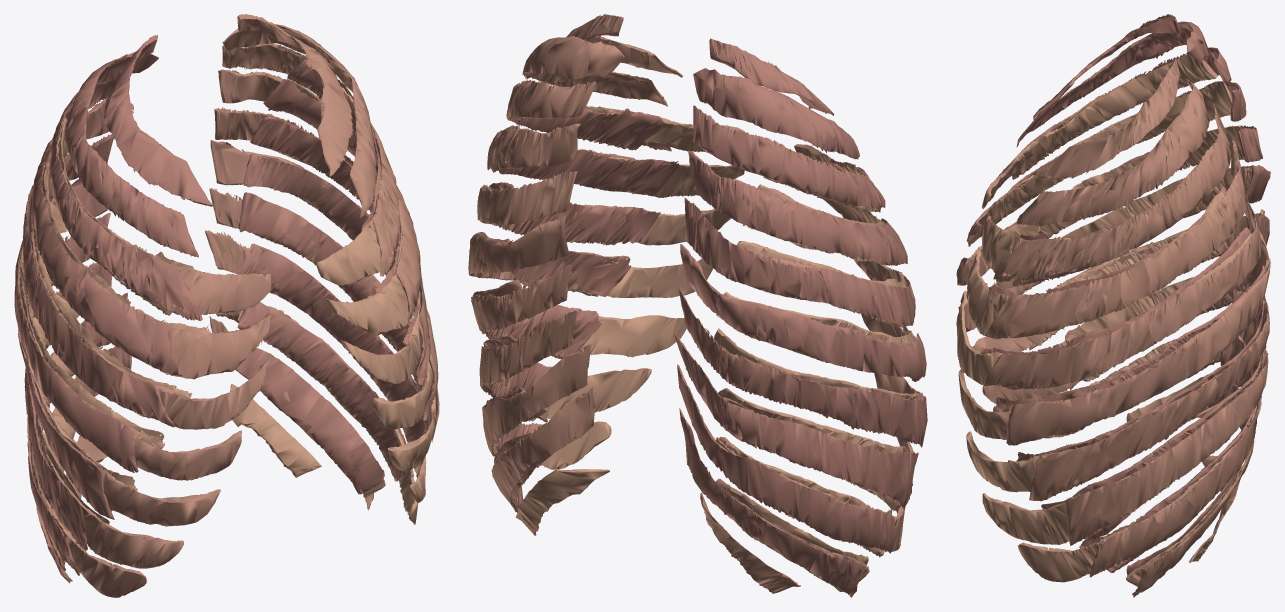
The model's file is intercostal-muscles.glb.
The picture shows the model from 3 angles, left to right: view 1: azimuth 30°, elevation 25°; view 2: azimuth 150°, elevation 25°; view 3: azimuth 270°, elevation 25°; orthographic projection. The views are drawn at different scales.
Parts seen in each view (by area): view 1: FJ1451 external intercostal muscle, FJ1454M Innermost intercostal muscle, FJ1455 internal intercostal muscle, FJ1451M External intercostal muscle, FJ1455M Internal intercostal muscle, FJ1454 innermost intercostal muscle; view 2: FJ1451 external intercostal muscle, FJ1451M External intercostal muscle, FJ1454M Innermost intercostal muscle, FJ1455M Internal intercostal muscle, FJ1454 innermost intercostal muscle, FJ1455 internal intercostal muscle; view 3: FJ1451M External intercostal muscle, FJ1454 innermost intercostal muscle, FJ1455M Internal intercostal muscle, FJ1454M Innermost intercostal muscle, FJ1451 external intercostal muscle, FJ1455 internal intercostal muscle.
Boxes of the visible parts, x1,y1,x2,y2 form: FJ1451 external intercostal muscle: (14, 35, 212, 583); FJ1454M Innermost intercostal muscle: (235, 58, 433, 494); FJ1455 internal intercostal muscle: (20, 120, 271, 597); FJ1451M External intercostal muscle: (205, 14, 439, 510); FJ1455M Internal intercostal muscle: (230, 79, 436, 524); FJ1454 innermost intercostal muscle: (19, 117, 210, 565); FJ1451 external intercostal muscle: (674, 38, 927, 597); FJ1451M External intercostal muscle: (468, 14, 682, 512); FJ1454M Innermost intercostal muscle: (472, 108, 680, 508); FJ1455M Internal intercostal muscle: (474, 84, 744, 535); FJ1454 innermost intercostal muscle: (714, 147, 921, 591); FJ1455 internal intercostal muscle: (700, 144, 923, 593); FJ1451M External intercostal muscle: (983, 57, 1270, 597); FJ1454 innermost intercostal muscle: (980, 54, 1264, 427); FJ1455M Internal intercostal muscle: (956, 166, 1267, 586); FJ1454M Innermost intercostal muscle: (980, 164, 1265, 574); FJ1451 external intercostal muscle: (997, 14, 1270, 456); FJ1455 internal intercostal muscle: (956, 60, 1251, 438).
Size of the model in its own units: 0.2723 by 0.3539 by 0.2059.
